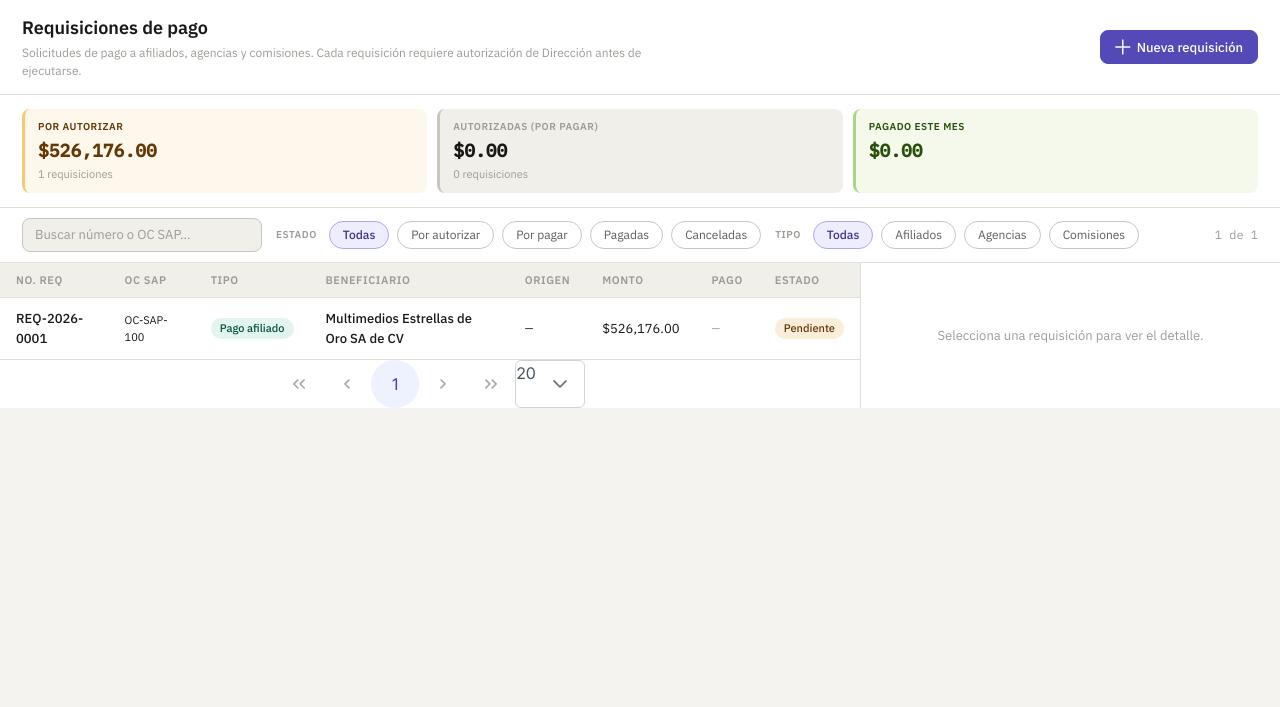
Test: RequisicionesPage › pago_afiliado con la factura repartida en varias Órdenes de Servicio (parcialidades): el badge muestra la primera y un contador
The width and height of the screenshot is (1280, 707).
Step 1. Click the text "REQ-2026-0001" → (54, 328), box [0, 298, 109, 360]
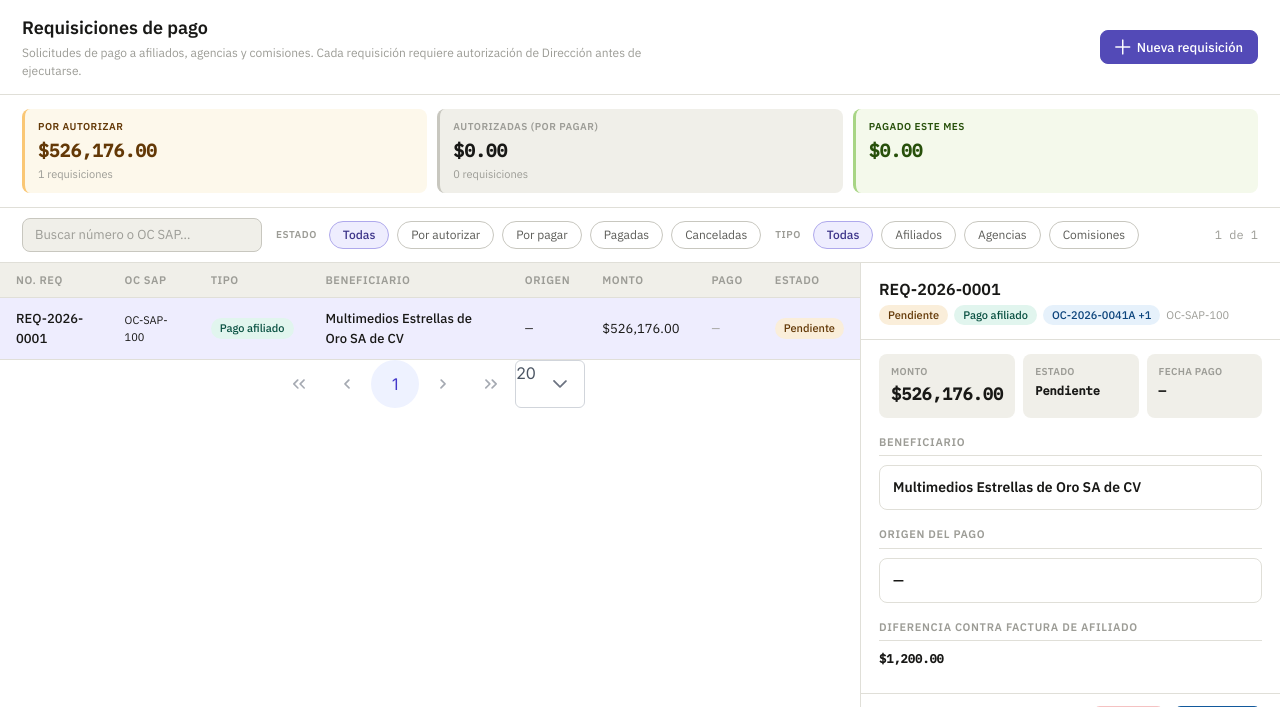
expect the text "OC-2026-0041A +1" is shown: met, box [1043, 304, 1160, 325]
